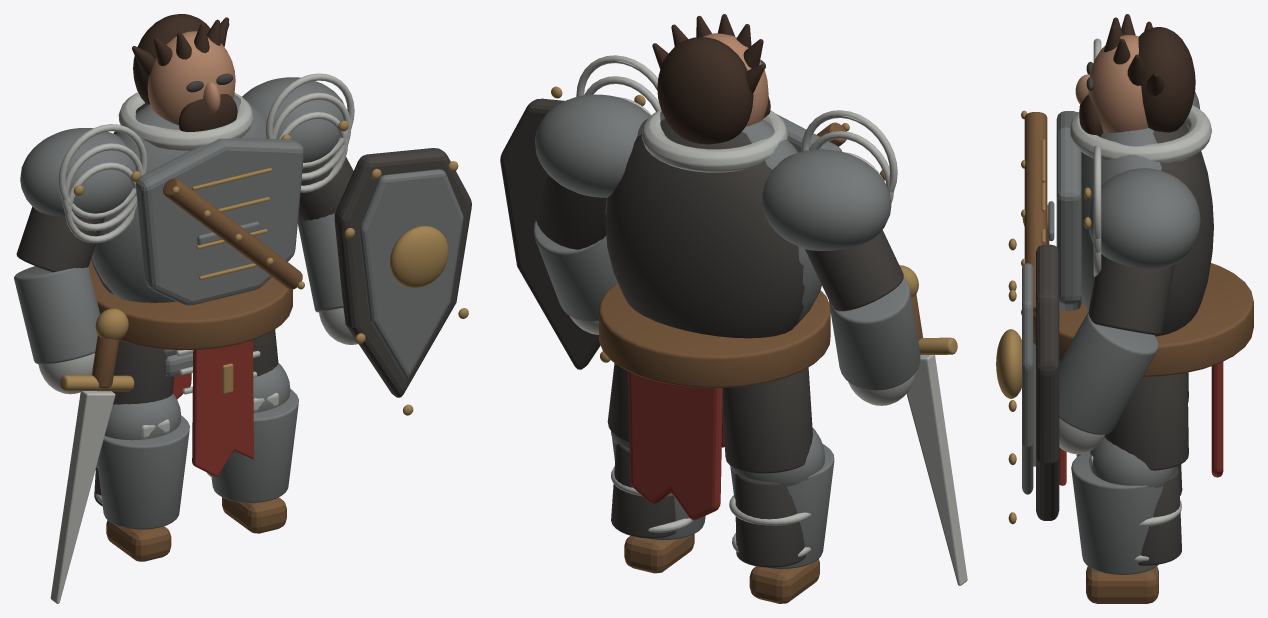
Rendered from warrior.glb.
The picture shows the model from 3 angles, left to right: view 1: azimuth 30°, elevation 25°; view 2: azimuth 150°, elevation 25°; view 3: azimuth 270°, elevation 25°; orthographic projection. The views are drawn at different scales.
Parts seen in each view (by area): view 1: breastplate, shield_field, kite_shield, belt, left_greave, tabard, left_vambrace, left_pauldron, cuirass_mass, right_greave, sword_blade, head (+26 smaller); view 2: padded_torso, belt, rear_tabard, left_pauldron, right_pauldron, hair_back, kite_shield, left_thigh, left_vambrace, sword_blade, left_shin, left_upper_arm (+20 smaller); view 3: right_pauldron, right_vambrace, belt, right_greave, kite_shield, right_thigh, padded_torso, right_upper_arm, breastplate, hair_back, head, cross_body_strap (+13 smaller).
Boxes of the visible parts, x1,y1,x2,y2 form: breastplate: (135,138,303,305); shield_field: (359,169,463,378); kite_shield: (334,148,471,397); belt: (88,259,292,350); left_greave: (97,415,189,529); tabard: (192,340,253,476); left_vambrace: (14,266,100,364); left_pauldron: (20,128,135,218); cuirass_mass: (91,95,266,302); right_greave: (211,389,298,502); sword_blade: (50,391,115,603); head: (147,31,235,125); padded_torso: (605,119,804,338); belt: (599,283,830,387); rear_tabard: (628,371,722,519); left_pauldron: (762,149,891,250); right_pauldron: (535,94,650,197); hair_back: (657,37,753,144); kite_shield: (500,98,600,369); left_thigh: (722,367,812,473); left_vambrace: (829,277,920,390); sword_blade: (906,355,967,585); left_shin: (735,474,805,567); left_upper_arm: (805,230,903,311); right_pauldron: (1088,168,1200,268); right_vambrace: (1059,312,1158,434); belt: (1033,263,1253,376); right_greave: (1071,451,1162,574); kite_shield: (1036,244,1059,520); right_thigh: (1104,372,1188,470); padded_torso: (1153,122,1213,336); right_upper_arm: (1088,254,1174,335); breastplate: (1056,111,1081,310); hair_back: (1138,27,1195,132); head: (1088,35,1148,132); cross_body_strap: (1024,112,1047,315).
Size of the model in its own units: 1.54 by 1.8 by 0.775.
